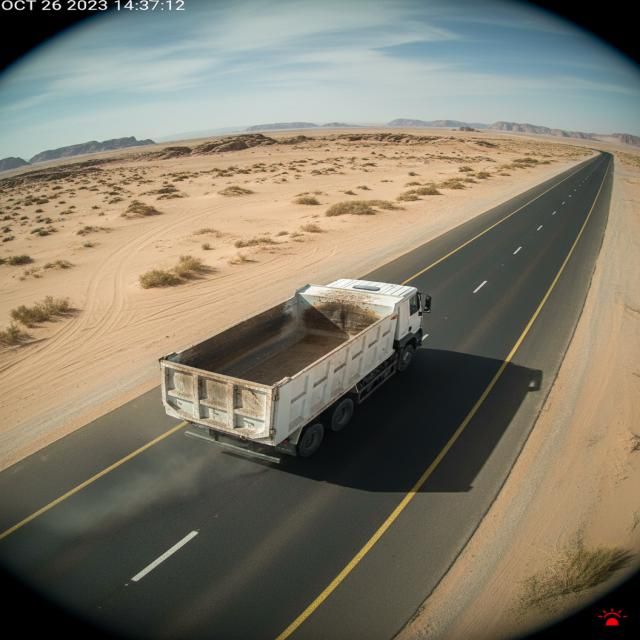trailer: (156, 291, 418, 395)
truck: (148, 240, 440, 461)
